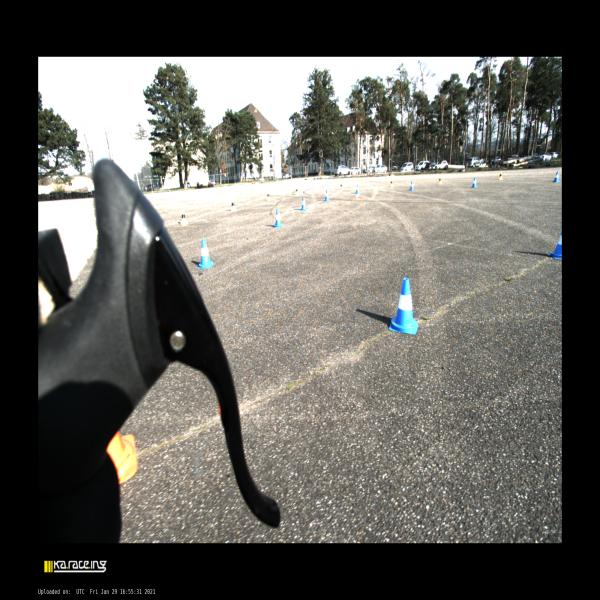blue_cone: (389, 278, 418, 334), (197, 238, 214, 268), (547, 232, 562, 259), (273, 210, 283, 228), (300, 196, 307, 210), (552, 172, 560, 182), (325, 190, 330, 201), (472, 177, 477, 188), (355, 184, 360, 194), (410, 181, 414, 190)
orange_cone: (106, 431, 137, 484)
yellow_cone: (181, 209, 188, 226), (230, 198, 236, 212), (266, 189, 271, 201), (498, 171, 503, 180), (438, 175, 442, 185), (295, 187, 299, 196), (390, 179, 393, 187), (340, 183, 343, 190)
